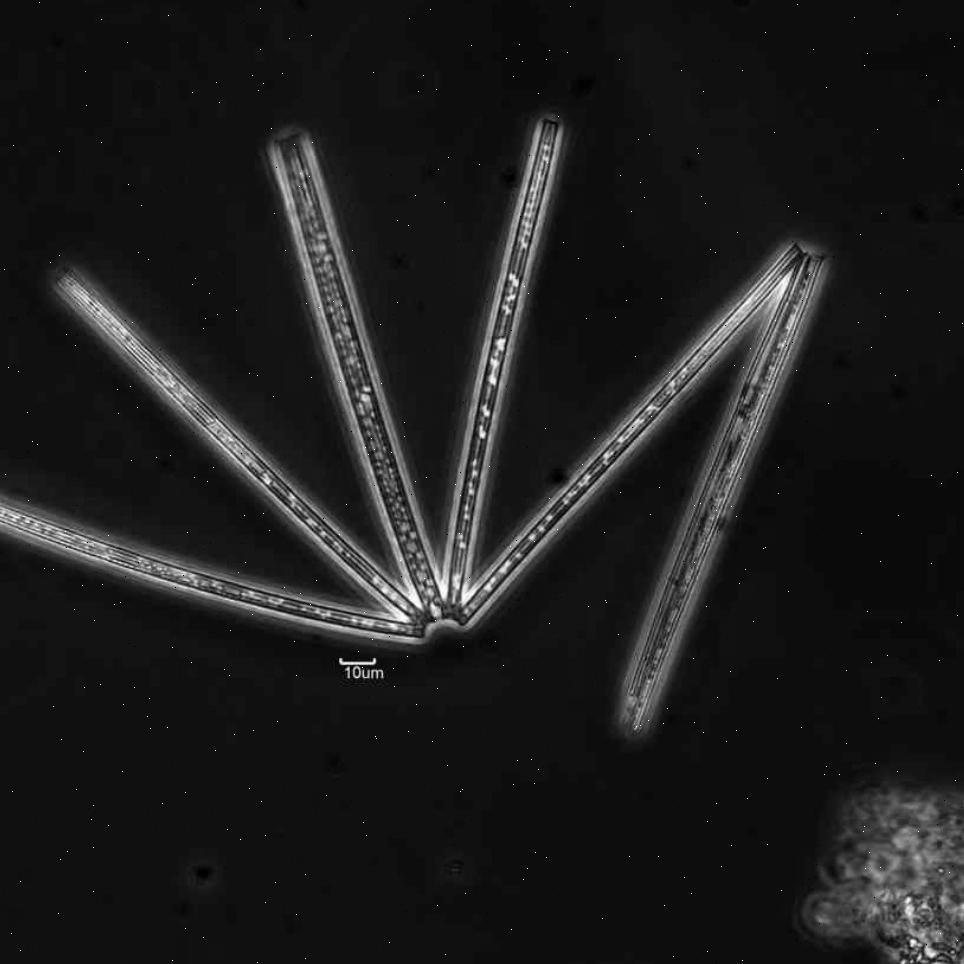thalassionema_nitzschioides: (0, 124, 819, 719)
